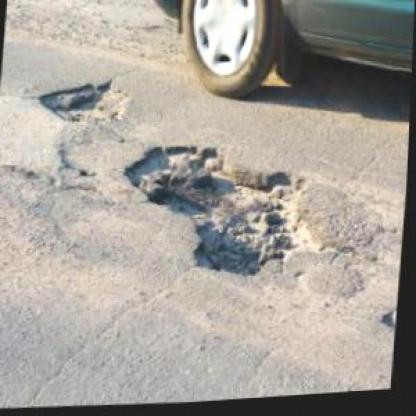pothole: (117, 131, 330, 288), (36, 75, 132, 126)
